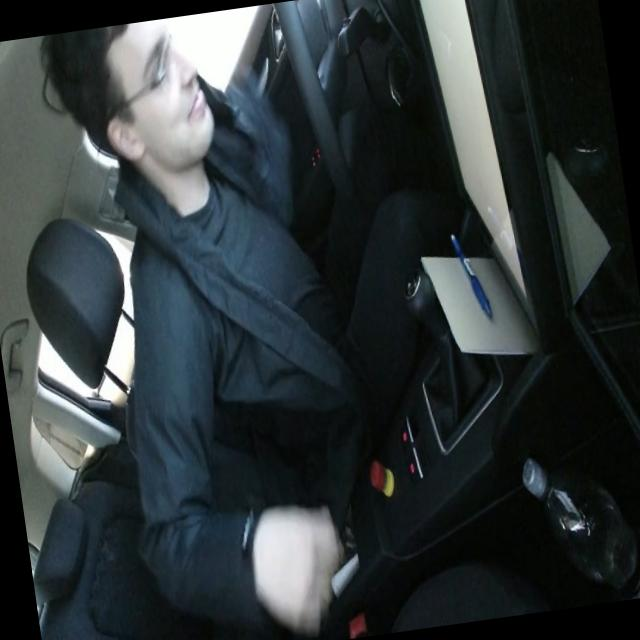pen: (449, 226, 493, 322)
